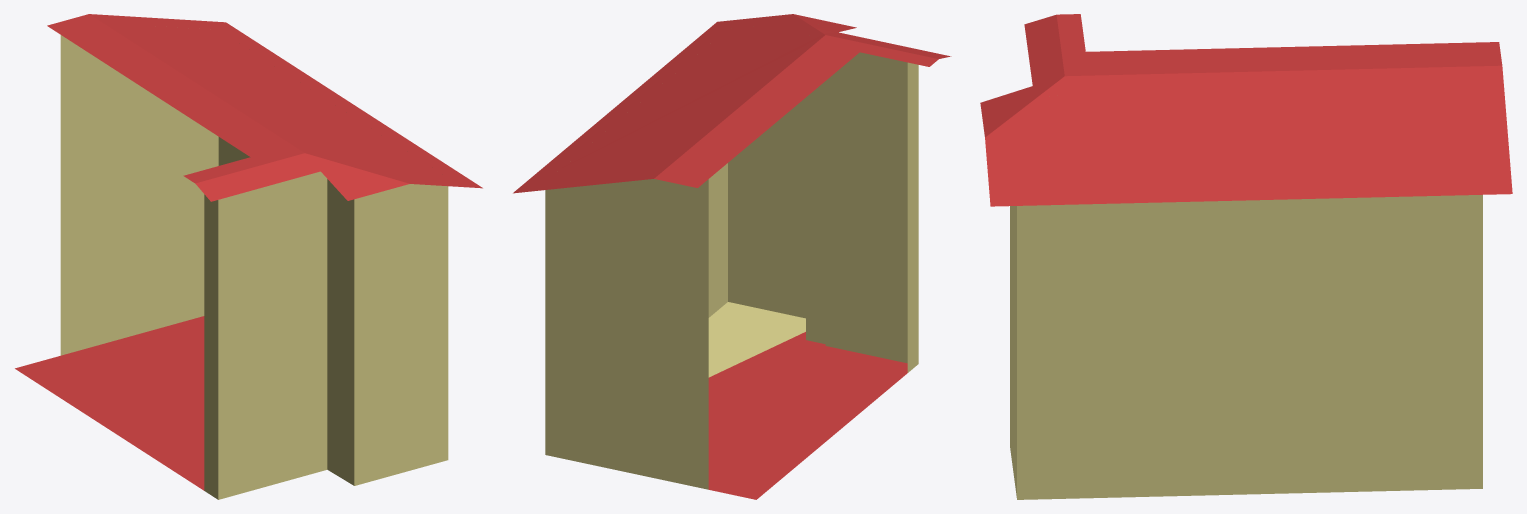
3 renders of one model, left to right at view 1: azimuth 30°, elevation 25°; view 2: azimuth 150°, elevation 25°; view 3: azimuth 270°, elevation 25°, orthographic. The views are drawn at different scales.
Bounding box in the file's own units: 5.92 × 9.44 × 6.99.
